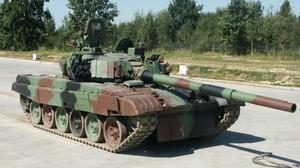t72: (14, 44, 296, 153)
